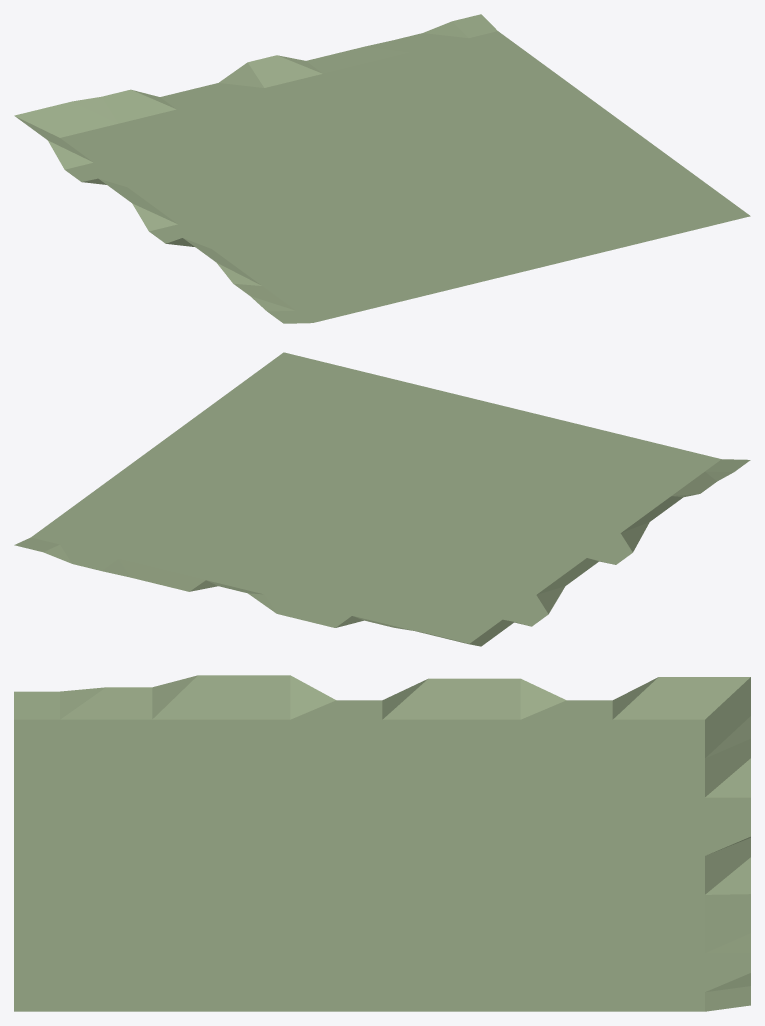
3 views of the same model, one above another, from view 1: azimuth 30°, elevation 25°; view 2: azimuth 150°, elevation 25°; view 3: azimuth 270°, elevation 25° (orthographic). The views are drawn at different scales.
Size of the model in its own units: 32 by 1.2 by 32.
